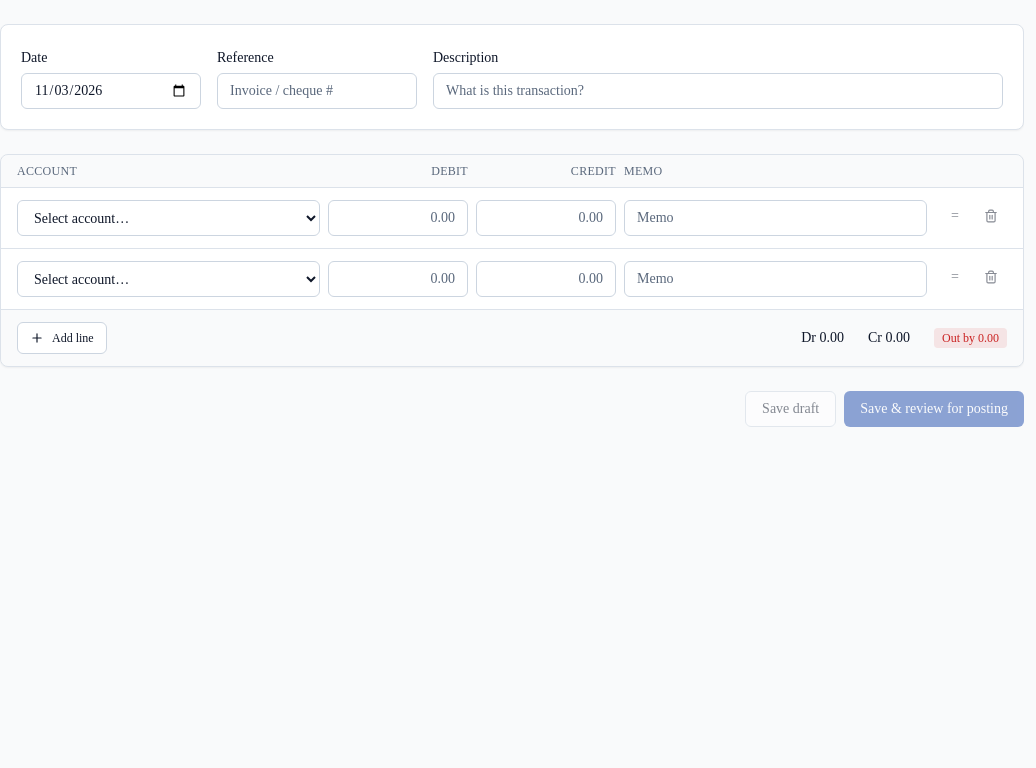
Test: EntryForm tax lines › adds the VAT and withholding lines for a coded purchase
Step 1. Select "6010 · Acct 6010" in the dropdown named "Line 1 account" → (168, 218), box [17,200,320,236]
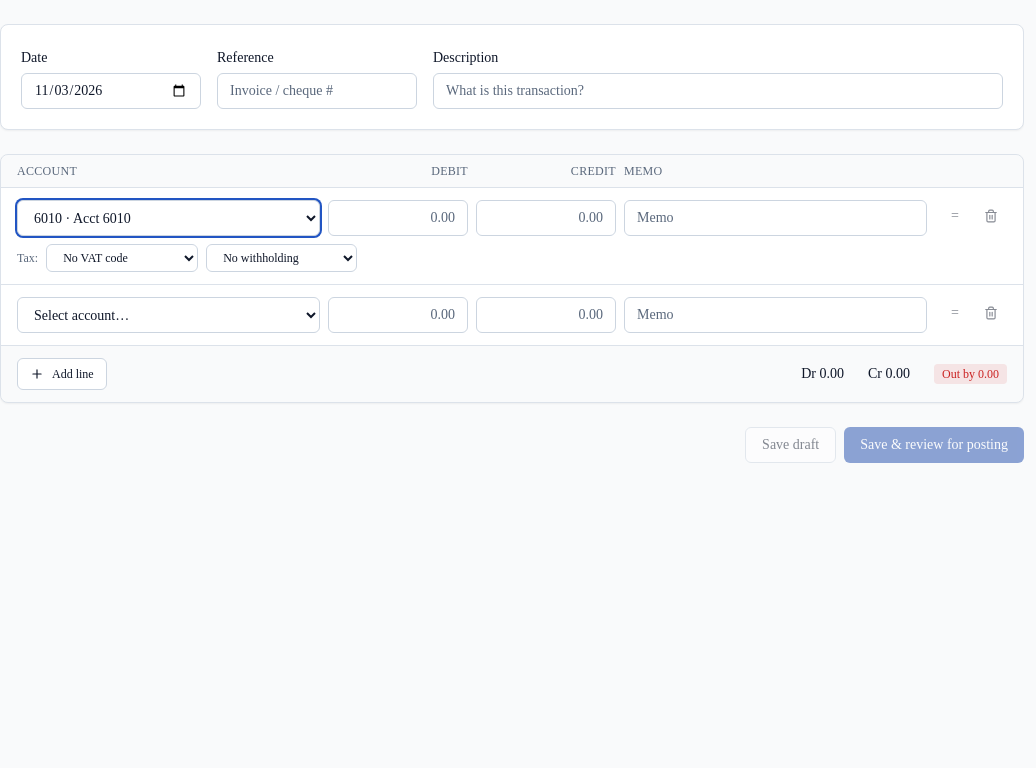
Step 2. Type "50000" into the field named "Line 1 debit" → (398, 218), box [328,200,468,236]
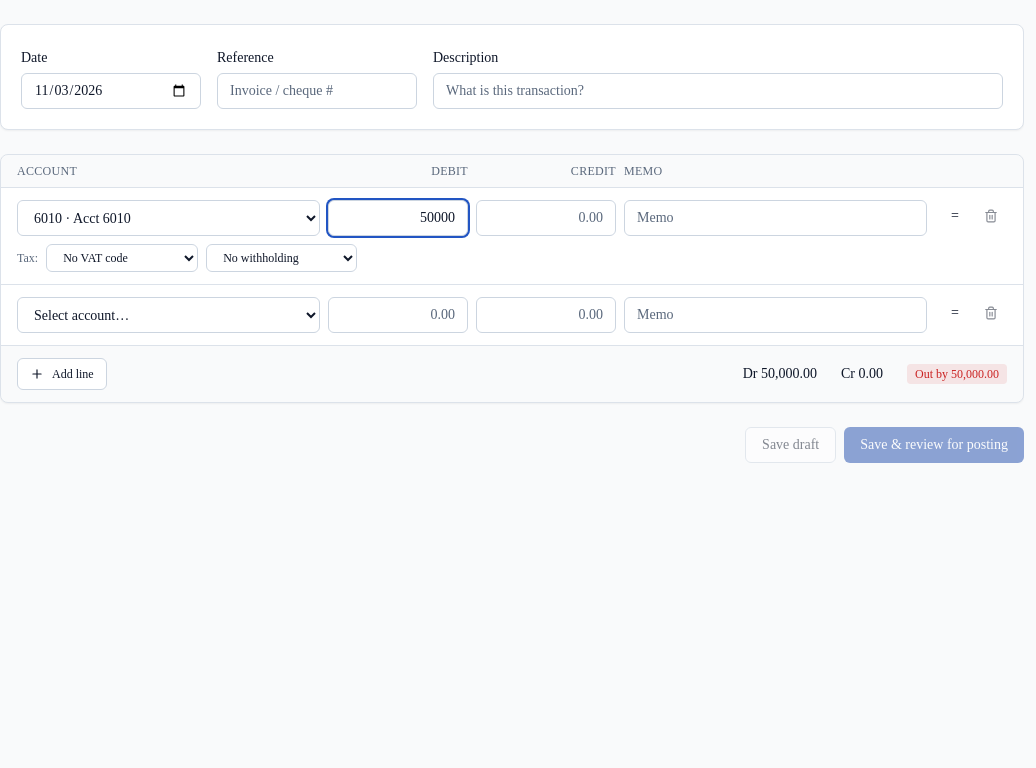
Step 3. Select "VAT12 · VAT12" in the dropdown named "Line 1 VAT code" → (122, 258), box [46,244,198,272]
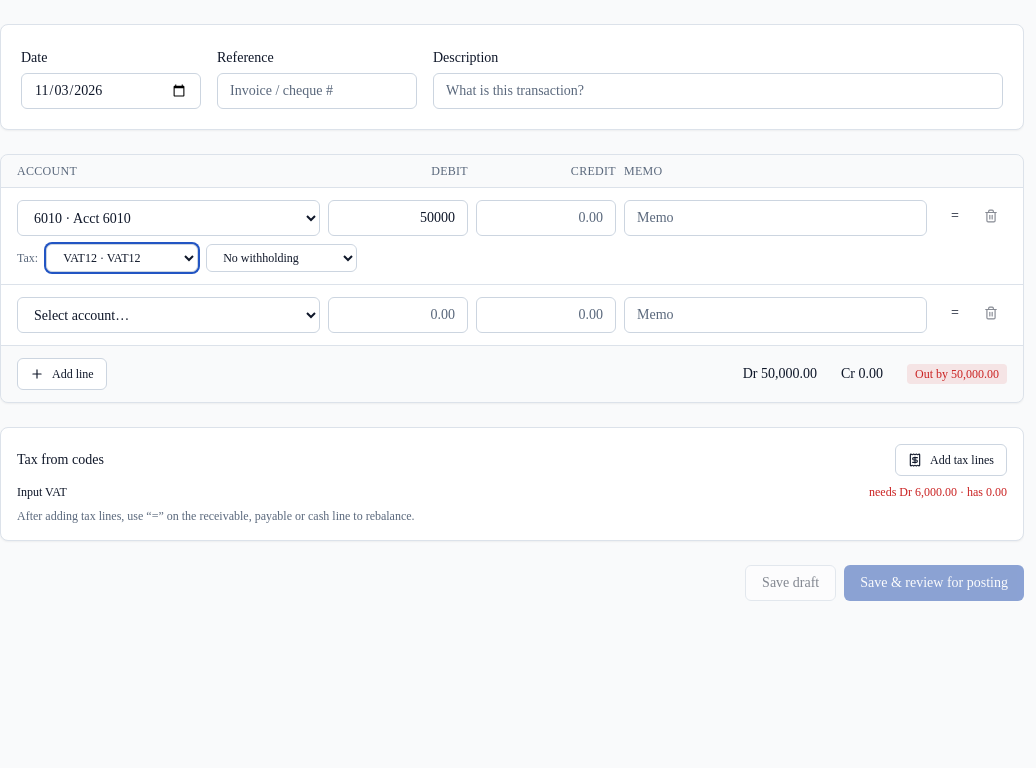
Step 4. Select "WI010 · WI010" in the dropdown named "Line 1 withholding code" → (282, 258), box [206,244,357,272]
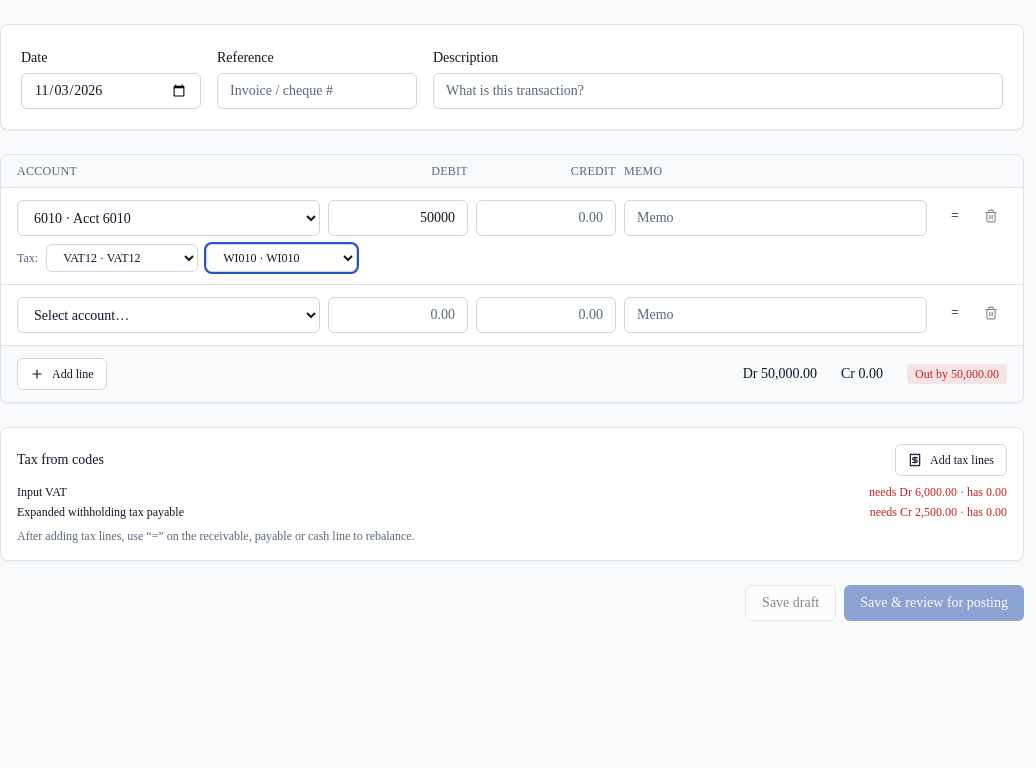
Expected: the text "Input VAT" is shown, [17,484,67,500]
Step 5. Click the button "Add tax lines" → (951, 460), box [895,444,1007,476]
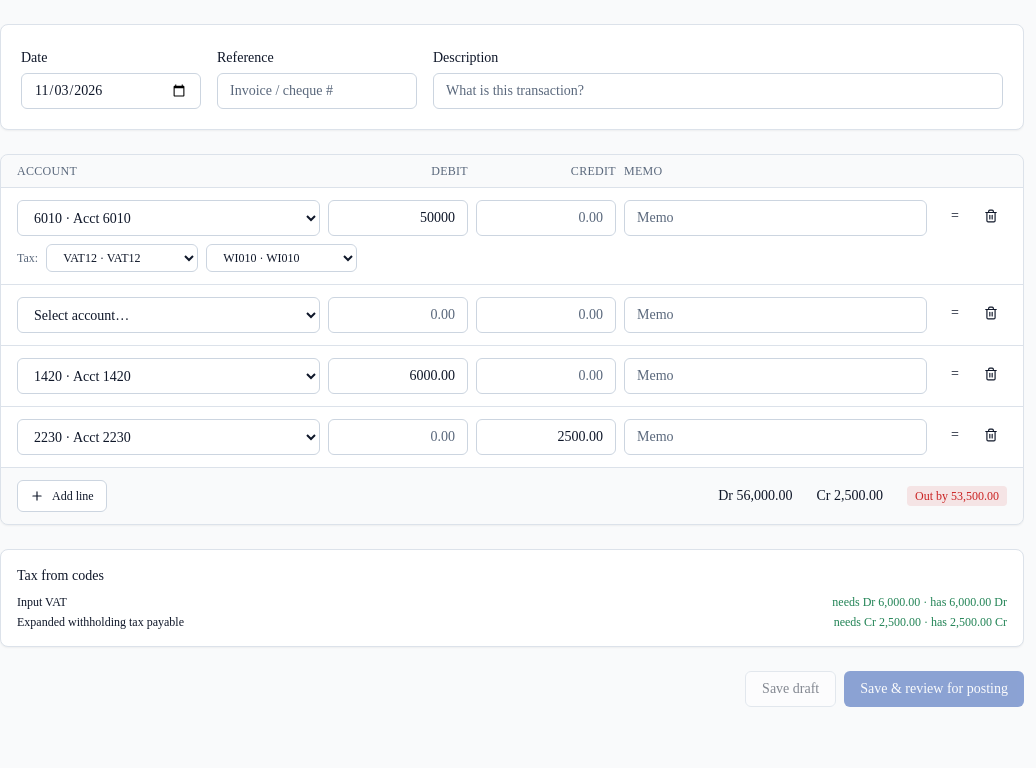
Expected: the dropdown named "Line 3 account" shows "1420 · Acct 1420", [17,358,320,394]
Expected: the field named "Line 3 debit" holds "6000.00", [328,358,468,394]
Expected: the dropdown named "Line 4 account" shows "2230 · Acct 2230", [17,419,320,455]
